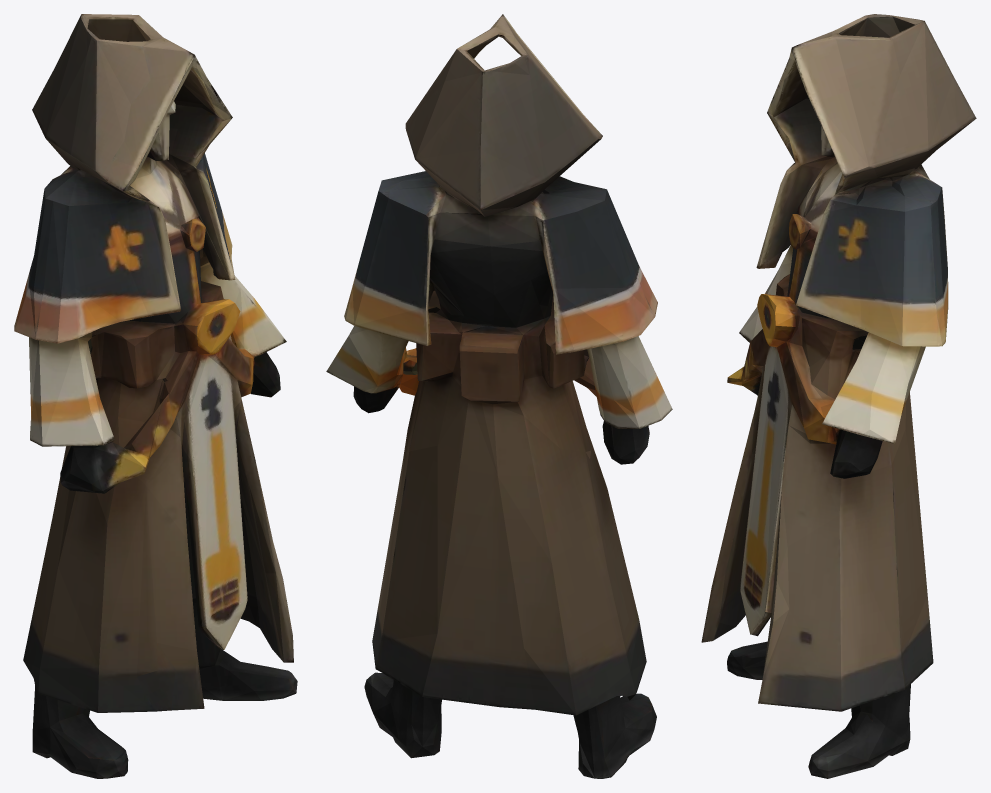
File: 0928_hooded_cultist.glb
3 renders of one model, left to right at view 1: azimuth 30°, elevation 25°; view 2: azimuth 150°, elevation 25°; view 3: azimuth 270°, elevation 25°, orthographic. The views are drawn at different scales.
Parts seen in each view (by area): view 1: world; view 2: world; view 3: world.
Part boxes in pixels (x1,y1,x2,y2): world: (14,14,297,778); world: (326,14,672,778); world: (701,14,976,778).
Bounding box in the file's own units: 0.6879 × 1.63 × 0.5874.
1 material, 1 textured.
